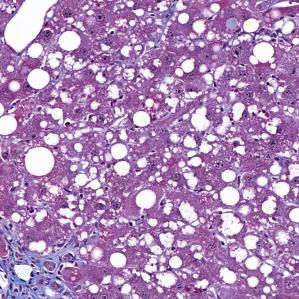fibrosis: (0, 243, 75, 299)
